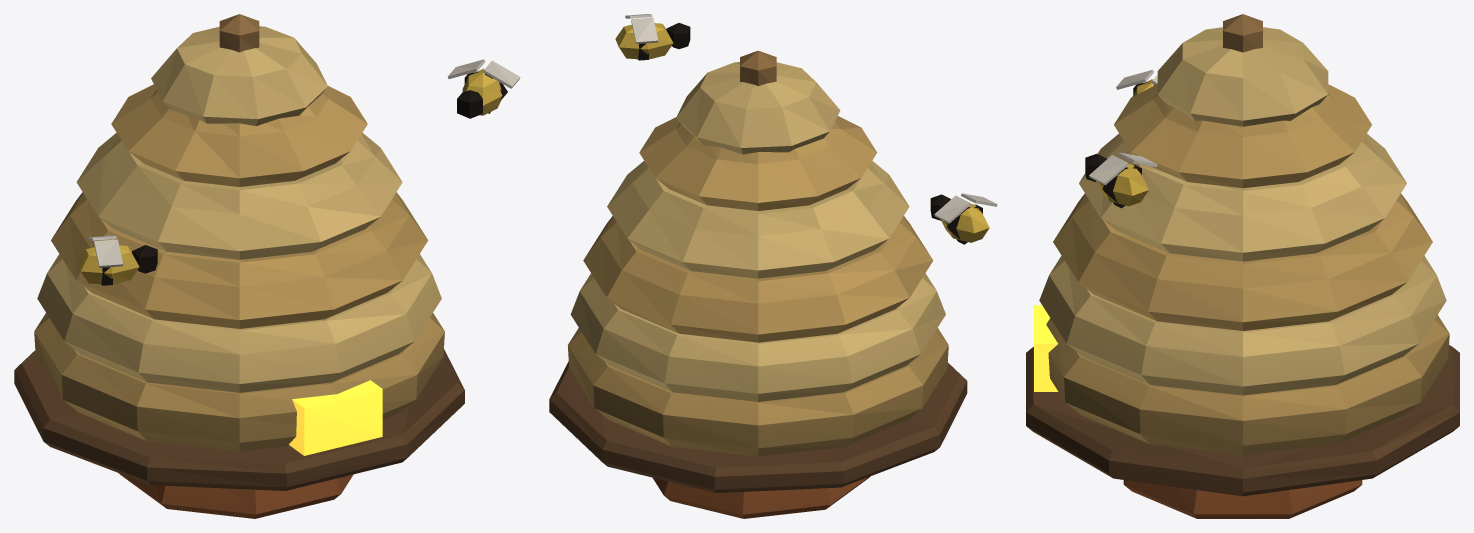
File: hive_hum.glb
3 views of the same model, side by side, from view 1: azimuth 30°, elevation 25°; view 2: azimuth 150°, elevation 25°; view 3: azimuth 270°, elevation 25° (orthographic). The views are drawn at different scales.
Visible parts, largest first — view 1: hive_hum; view 2: hive_hum; view 3: hive_hum.
Part boxes in pixels (left/top/right/bottom): hive_hum: left=14, top=14, right=520, bottom=518; hive_hum: left=549, top=14, right=997, bottom=518; hive_hum: left=1026, top=14, right=1459, bottom=518.
Size of the model in its own units: 0.637 by 0.6649 by 0.5706.
